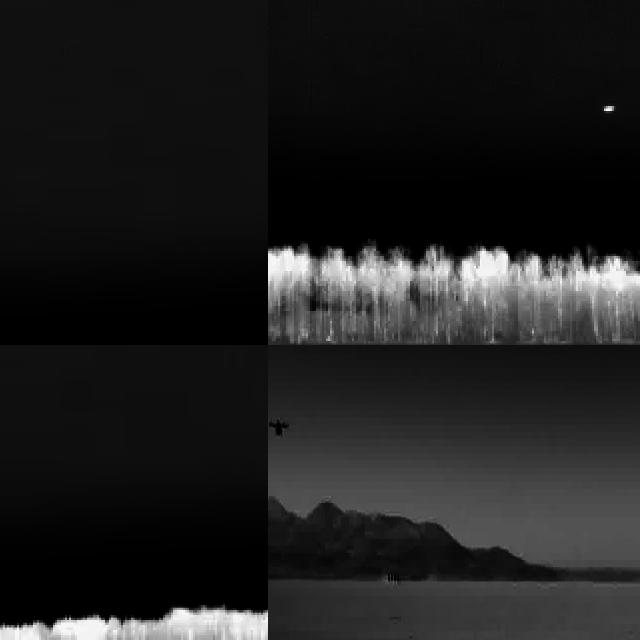0: (54, 36, 78, 64), (59, 0, 97, 8)
1: (591, 100, 621, 120)
drone: (268, 416, 290, 441)
